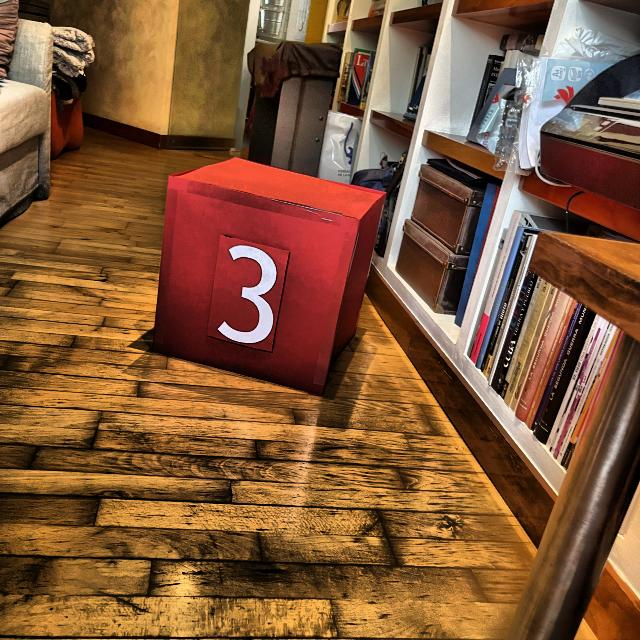red box: (153, 157, 384, 401), (218, 242, 278, 348)
